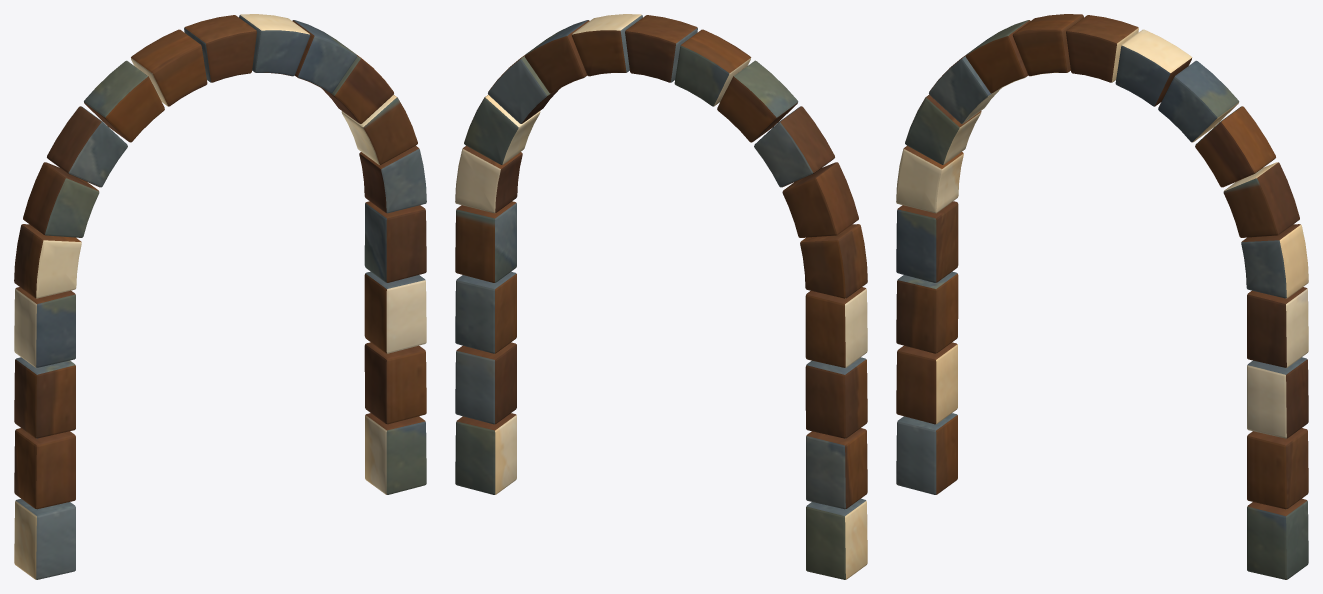
Rendered from CM_C05_StoneSurround.fbx.
3 renders of one model, left to right at view 1: azimuth 30°, elevation 25°; view 2: azimuth 150°, elevation 25°; view 3: azimuth 330°, elevation 25°, orthographic.
Parts seen in each view (by area): view 1: CM_C05_StoneSurround; view 2: CM_C05_StoneSurround; view 3: CM_C05_StoneSurround.
Boxes of the visible parts, bbox=[...] form: CM_C05_StoneSurround: bbox=[14, 14, 426, 579]; CM_C05_StoneSurround: bbox=[455, 14, 867, 579]; CM_C05_StoneSurround: bbox=[896, 14, 1308, 579].
Bounding box in the file's own units: 2.55 × 3.1 × 0.2572.
